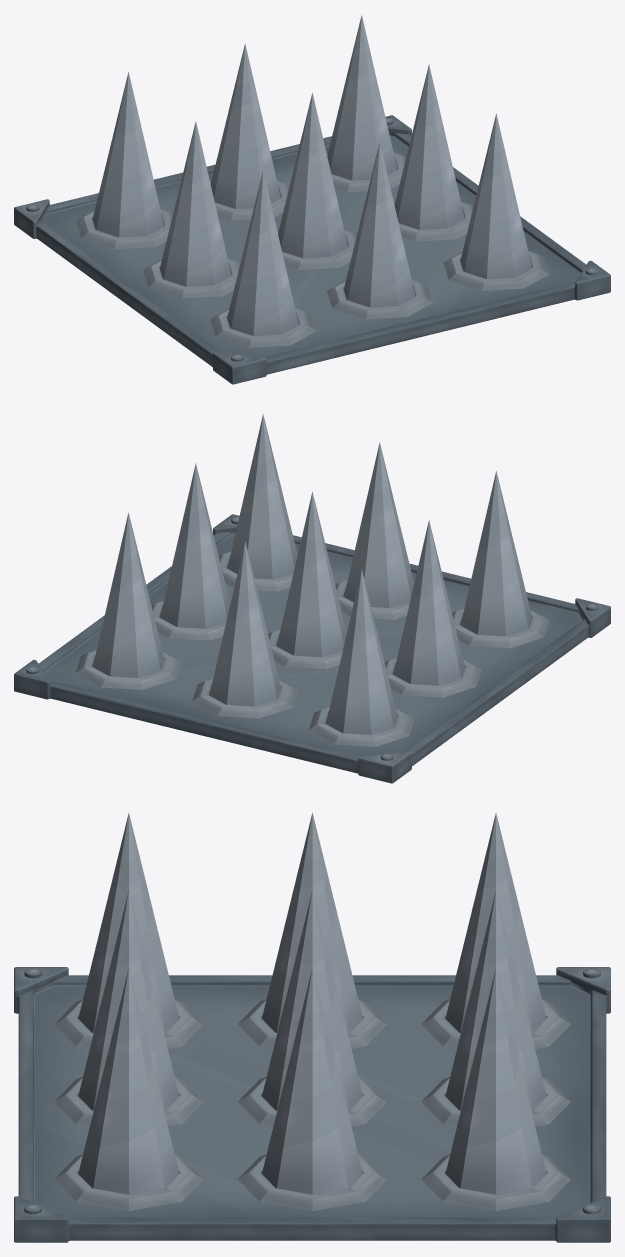
The model's file is SpikeTrap.fbx.
The picture shows the model from 3 angles, top to bottom: view 1: azimuth 30°, elevation 25°; view 2: azimuth 150°, elevation 25°; view 3: azimuth 270°, elevation 25°; orthographic projection. The views are drawn at different scales.
Parts seen in each view (by area): view 1: Platform, Spike6, Spike0, Spike3, Spike4, Spike5, Spike7, Spike8, Spike1, Spike2, Spikepad1.002, Spikepad2.002 (+7 smaller); view 2: Platform, Spike6, Spike1, Spike2, Spike5, Spike0, Spike7, Spike8, Spike4, Spike3, Spikepad1, Spikepad2 (+7 smaller); view 3: Platform, Spike2, Spike3, Spike7, Spike1, Spike4, Spike6, Spike0, Spike5, Spike8, Spikepad1.001, Spikepad1.002 (+7 smaller).
Part boxes in pixels (x1,y1,x2,y2): Platform: (14, 115, 610, 384); Spike6: (160, 121, 231, 286); Spike0: (92, 72, 164, 237); Spike3: (460, 113, 531, 278); Spike4: (343, 142, 415, 307); Spike5: (227, 170, 298, 335); Spike7: (394, 64, 464, 229); Spike8: (278, 92, 347, 258); Spike1: (210, 43, 280, 208); Spike2: (327, 15, 397, 180); Spikepad1.002: (443, 251, 549, 290); Spikepad2.002: (210, 308, 315, 347); Platform: (14, 514, 610, 783); Spike6: (393, 520, 464, 685); Spike1: (209, 541, 281, 706); Spike2: (93, 512, 164, 677); Spike5: (460, 471, 532, 636); Spike0: (326, 569, 397, 734); Spike7: (160, 463, 230, 628); Spike8: (277, 491, 346, 657); Spike4: (344, 442, 414, 607); Spike3: (227, 414, 297, 579); Spikepad1: (75, 650, 181, 689); Spikepad2: (309, 707, 414, 746); Platform: (14, 967, 610, 1242); Spike2: (445, 968, 546, 1194); Spike3: (78, 968, 179, 1194); Spike7: (262, 967, 362, 1194); Spike1: (445, 890, 546, 1110); Spike4: (78, 890, 179, 1110); Spike6: (262, 812, 362, 1032); Spike0: (445, 813, 546, 1033); Spike5: (78, 813, 179, 1033); Spike8: (262, 890, 362, 1110); Spikepad1.001: (237, 1154, 387, 1210); Spikepad1.002: (54, 1154, 203, 1210).
Size of the model in its own units: 406 by 171 by 406.
